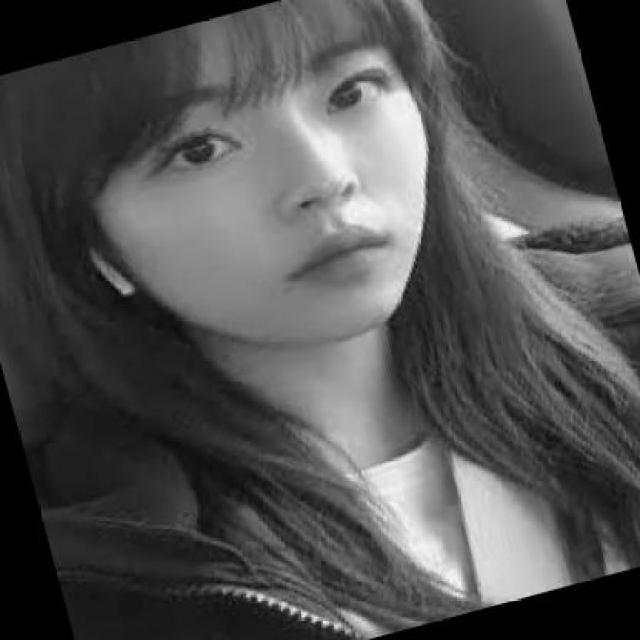earphone: (84, 226, 144, 296)
